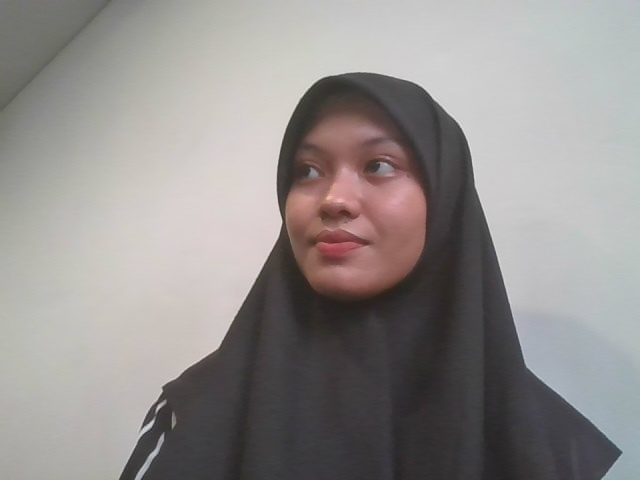Awake: (251, 56, 511, 409)
